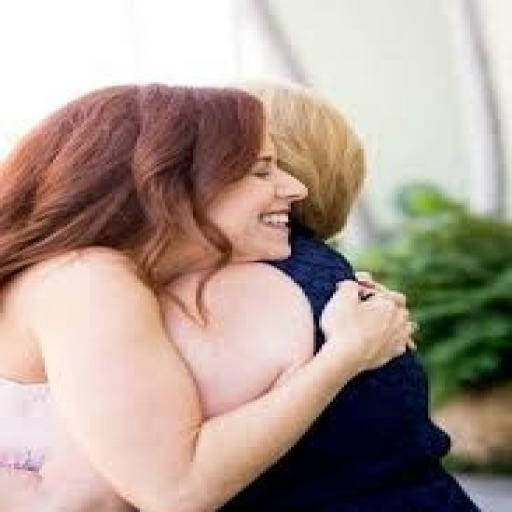hugging: (0, 80, 420, 510)
